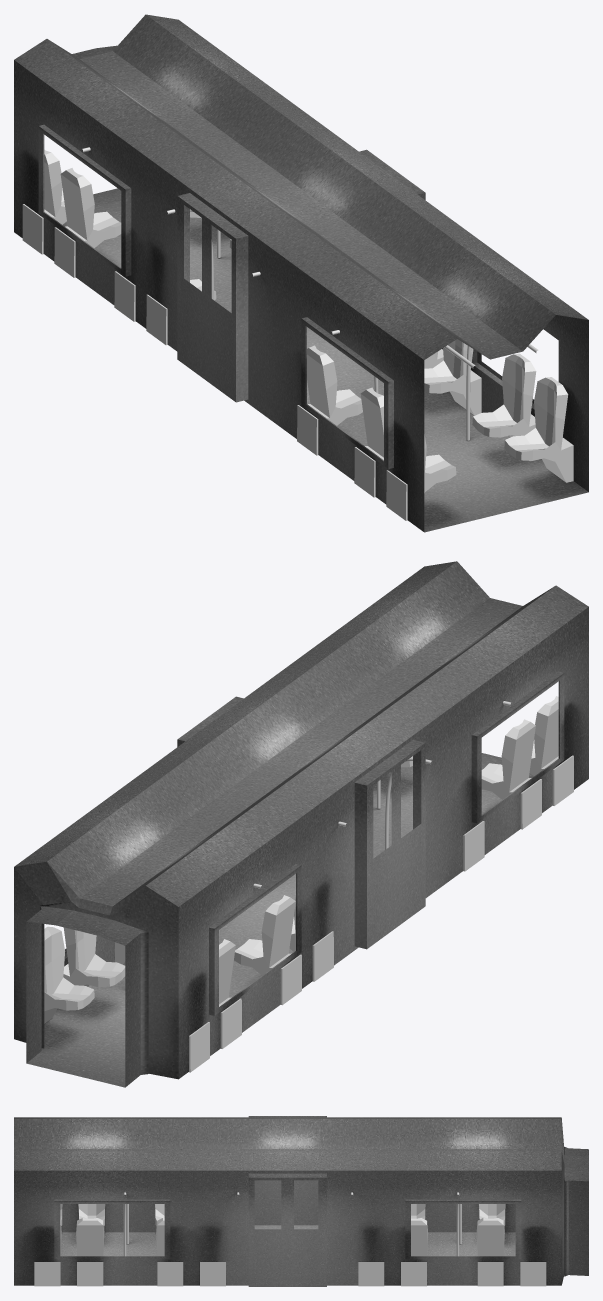
The model's file is subway.gltf.
The picture shows the model from 3 angles, top to bottom: view 1: azimuth 30°, elevation 25°; view 2: azimuth 150°, elevation 25°; view 3: azimuth 270°, elevation 25°; orthographic projection. The views are drawn at different scales.
Parts seen in each view (by area): view 1: Cube, Cube.007, Cube.024, Cube.020, Cube.008, Cube.006, Cube.018, Cube.023, Cube.017, Cube.021, Cube.022; view 2: Cube, Cube.022, Cube.018, Cube.017, Cube.001, Cube.002, Cube.024, Cube.021, Cube.020, Cube.023; view 3: Cube, Cube.002, Cube.008, Cube.004, Cube.006, Cube.007, Cube.001, Cube.003, Cube.005, Cube.024, Cube.018.
Part boxes in pixels (box(x1,y1,x2,y2)): Cube: box(14, 14, 588, 532); Cube.007: box(504, 377, 573, 482); Cube.024: box(54, 168, 121, 277); Cube.020: box(297, 345, 362, 455); Cube.008: box(472, 353, 536, 437); Cube.006: box(424, 339, 481, 415); Cube.018: box(354, 387, 383, 497); Cube.023: box(22, 149, 66, 254); Cube.017: box(386, 434, 456, 520); Cube.021: box(146, 279, 216, 345); Cube.022: box(114, 218, 135, 321); Cube: box(14, 561, 588, 1087); Cube.022: box(234, 895, 301, 1005); Cube.018: box(481, 719, 541, 829); Cube.017: box(529, 696, 573, 805); Cube.001: box(44, 926, 94, 1023); Cube.002: box(63, 927, 125, 987); Cube.024: box(219, 939, 241, 1048); Cube.021: box(289, 895, 333, 981); Cube.020: box(463, 821, 484, 871); Cube.023: box(189, 1022, 209, 1072); Cube: box(14, 1116, 588, 1286); Cube.002: box(476, 1218, 504, 1286); Cube.008: box(76, 1218, 104, 1286); Cube.004: box(401, 1218, 428, 1286); Cube.006: box(156, 1218, 183, 1286); Cube.007: box(34, 1221, 61, 1286); Cube.001: box(520, 1262, 546, 1286); Cube.003: box(358, 1262, 384, 1286); Cube.005: box(200, 1262, 225, 1286); Cube.024: box(479, 1204, 505, 1233); Cube.018: box(78, 1204, 105, 1234).
Size of the model in its own units: 2.3 by 2.17 by 9.06.
1 material, 1 textured.
